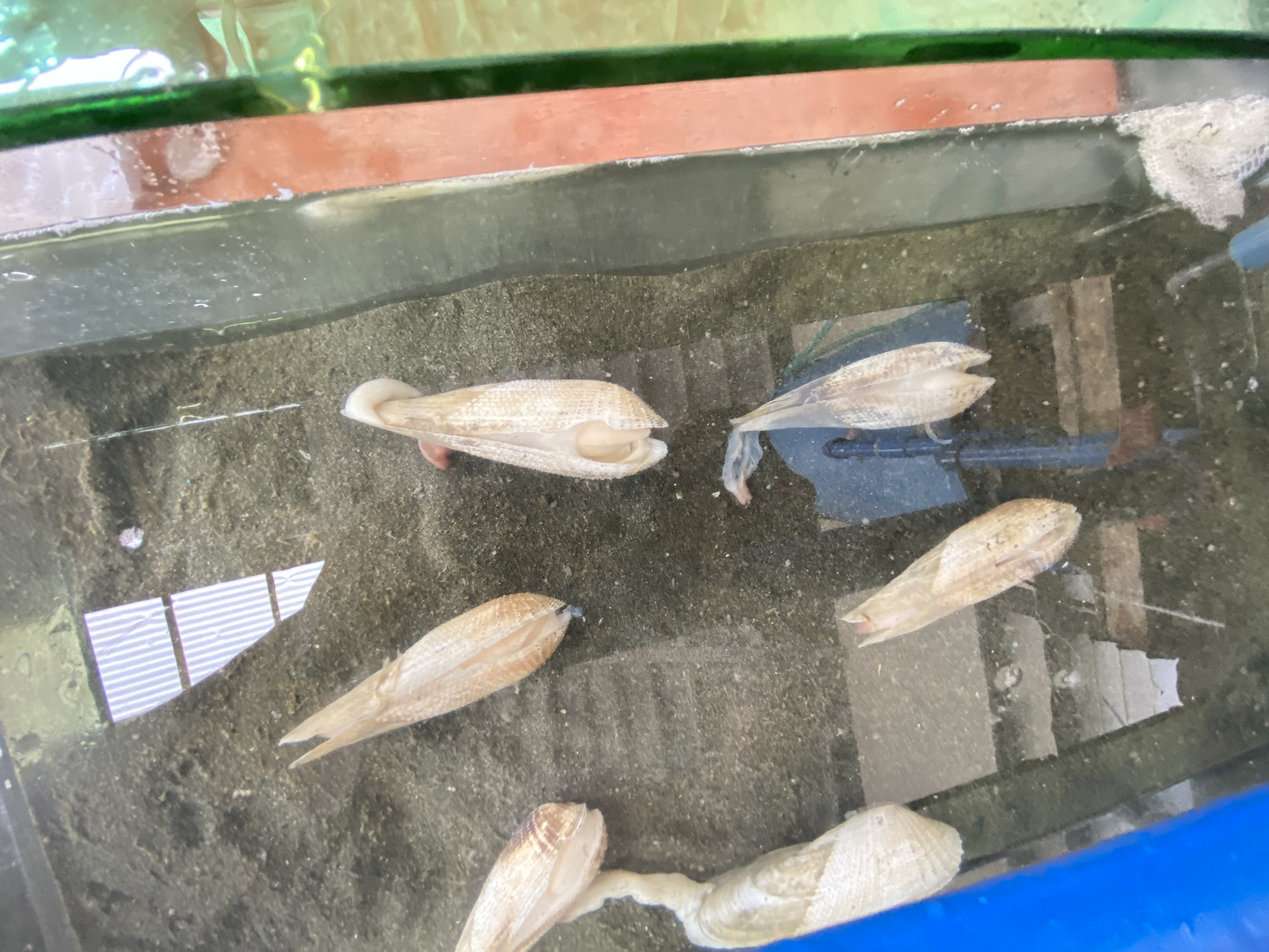At risk: (566, 805, 962, 948), (279, 593, 581, 769), (721, 341, 994, 504), (839, 499, 1081, 646), (341, 378, 667, 479), (456, 803, 606, 952)
